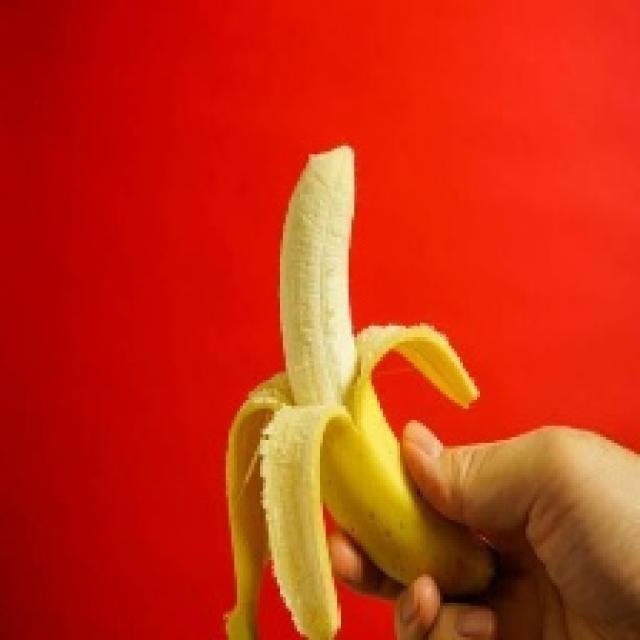Banana: (220, 143, 494, 637)
